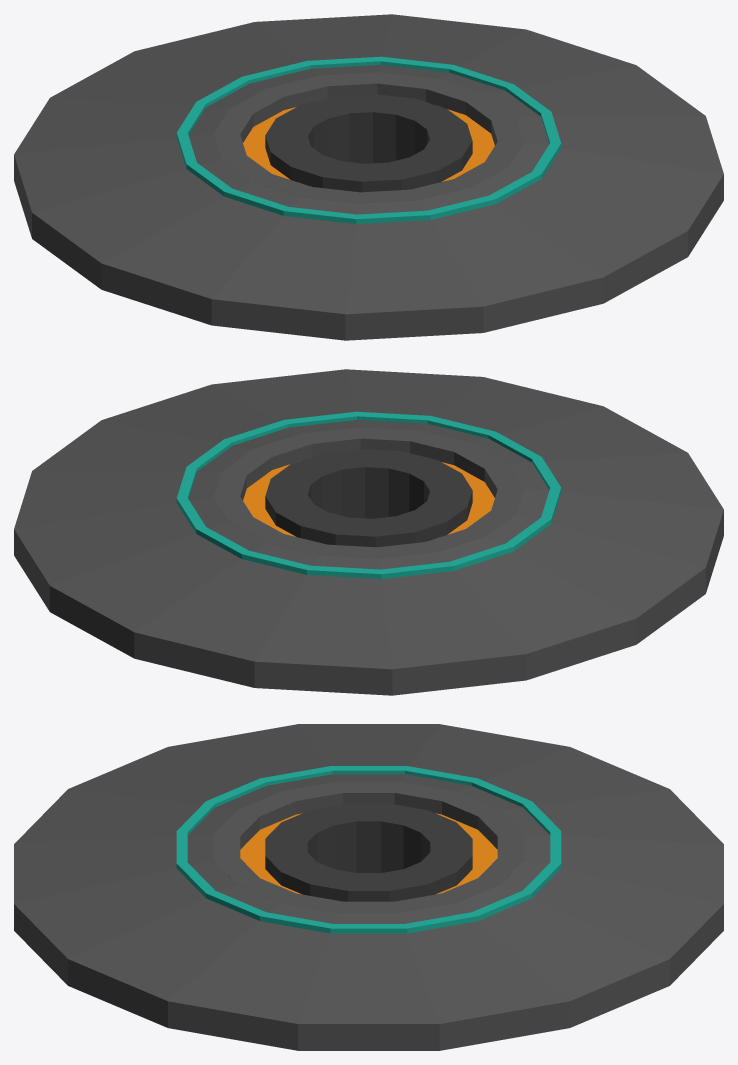
File: flying_wheel_1.obj
3 renders of one model, top to bottom at view 1: azimuth 30°, elevation 25°; view 2: azimuth 150°, elevation 25°; view 3: azimuth 270°, elevation 25°, orthographic.
Visible parts, largest first — view 1: 3, 2, 4, 5, 1; view 2: 3, 2, 4, 5, 1; view 3: 3, 2, 4, 5, 1.
Part boxes in pixels (bbox=[...]): 3: bbox=[14, 14, 723, 340]; 2: bbox=[265, 94, 472, 192]; 4: bbox=[213, 72, 524, 203]; 5: bbox=[176, 56, 561, 223]; 1: bbox=[243, 107, 494, 181]; 3: bbox=[14, 369, 723, 695]; 2: bbox=[265, 449, 472, 547]; 4: bbox=[213, 427, 524, 558]; 5: bbox=[176, 411, 561, 578]; 1: bbox=[243, 462, 494, 536]; 3: bbox=[14, 724, 723, 1050]; 2: bbox=[265, 803, 472, 901]; 4: bbox=[213, 781, 524, 912]; 5: bbox=[176, 766, 561, 933]; 1: bbox=[240, 813, 497, 894].
Bounding box in the file's own units: 1.5 × 0.1875 × 1.5.
